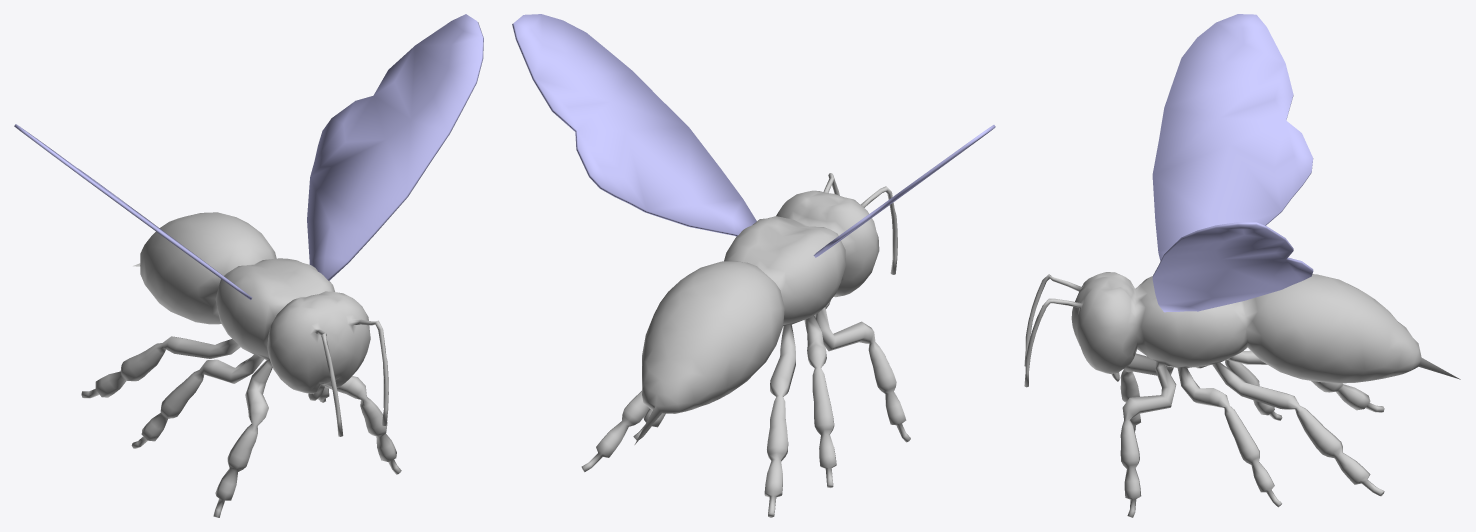
File: bee2.obj
3 views of the same model, side by side, from view 1: azimuth 30°, elevation 25°; view 2: azimuth 150°, elevation 25°; view 3: azimuth 270°, elevation 25° (orthographic). The views are drawn at different scales.
Visible parts, largest first — view 1: bee_body.002, bee_wing.002; view 2: bee_body.002, bee_wing.002; view 3: bee_body.002, bee_wing.002.
Part boxes in pixels (x1=…): bee_body.002: x1=81, y1=212, x2=401, y2=517; bee_wing.002: x1=14, y1=14, x2=483, y2=299; bee_body.002: x1=581, y1=173, x2=910, y2=517; bee_wing.002: x1=512, y1=14, x2=995, y2=257; bee_body.002: x1=1024, y1=272, x2=1460, y2=517; bee_wing.002: x1=1152, y1=14, x2=1313, y2=312.
Size of the model in its own units: 1.5 by 1.19 by 1.32.
